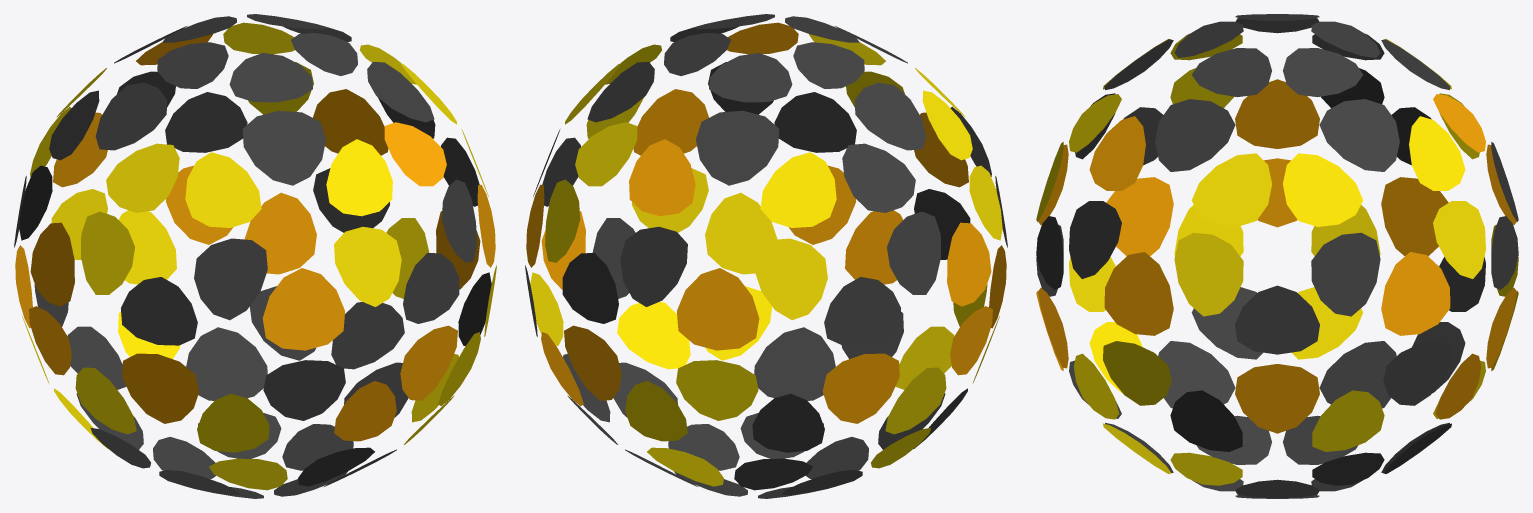
The picture shows the model from 3 angles, left to right: view 1: azimuth 30°, elevation 25°; view 2: azimuth 150°, elevation 25°; view 3: azimuth 270°, elevation 25°; orthographic projection.
Parts seen in each view (by area): view 1: SoccerBall_Tribal; view 2: SoccerBall_Tribal; view 3: SoccerBall_Tribal.
Boxes of the visible parts, x1=… form: SoccerBall_Tribal: x1=14, y1=14, x2=496, y2=498; SoccerBall_Tribal: x1=525, y1=14, x2=1007, y2=498; SoccerBall_Tribal: x1=1036, y1=14, x2=1518, y2=498.
Size of the model in its own units: 1.9 by 1.9 by 1.89.
